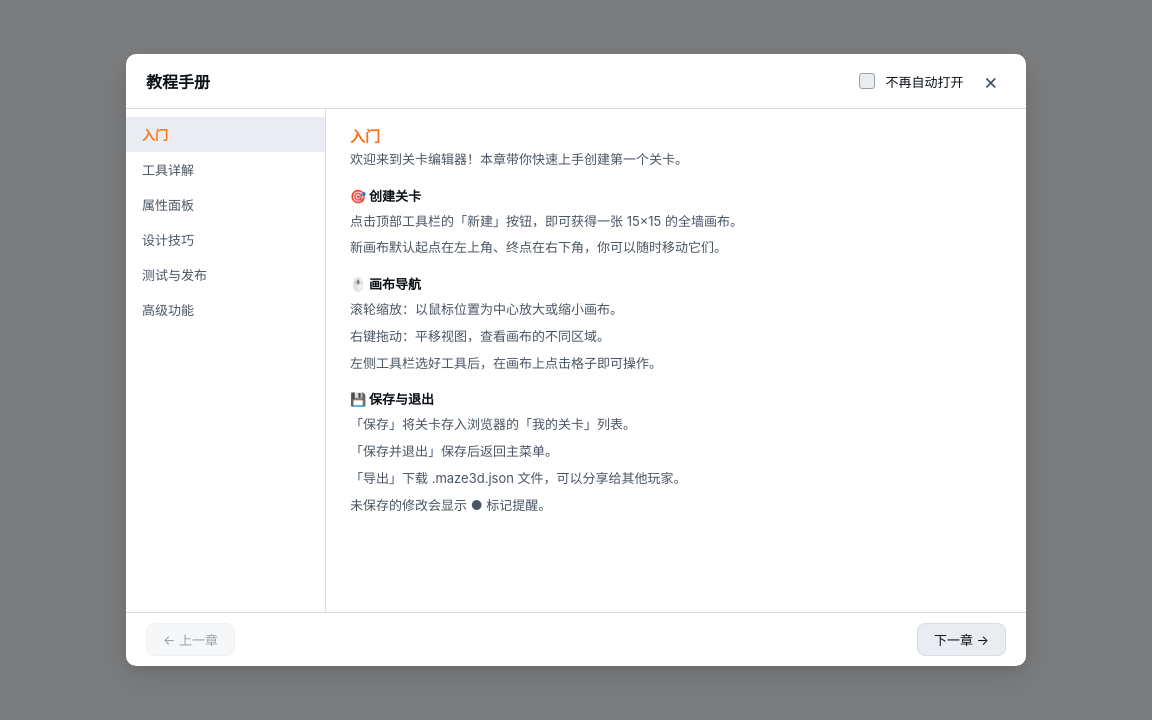
Test: EditorTutorialManual › disables Next on last chapter
Click the button with test id "editor-manual-next": (961, 640) [917,623,1006,656]
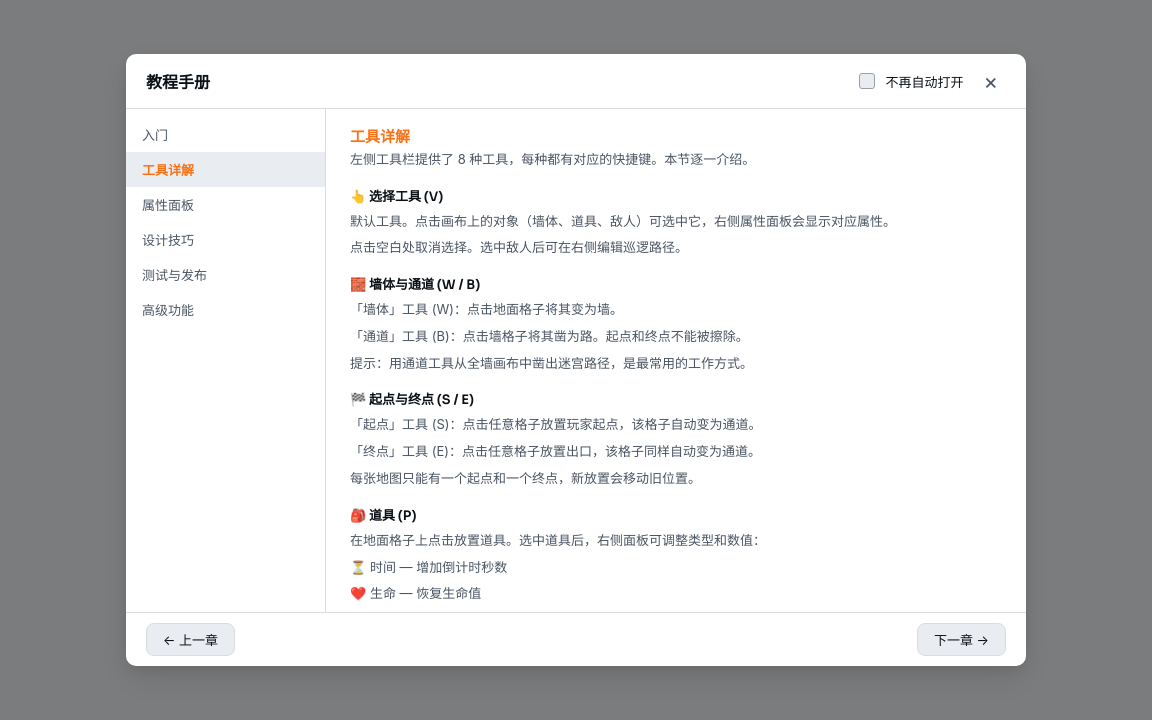
Click the button with test id "editor-manual-next": (961, 640) [917,623,1006,656]
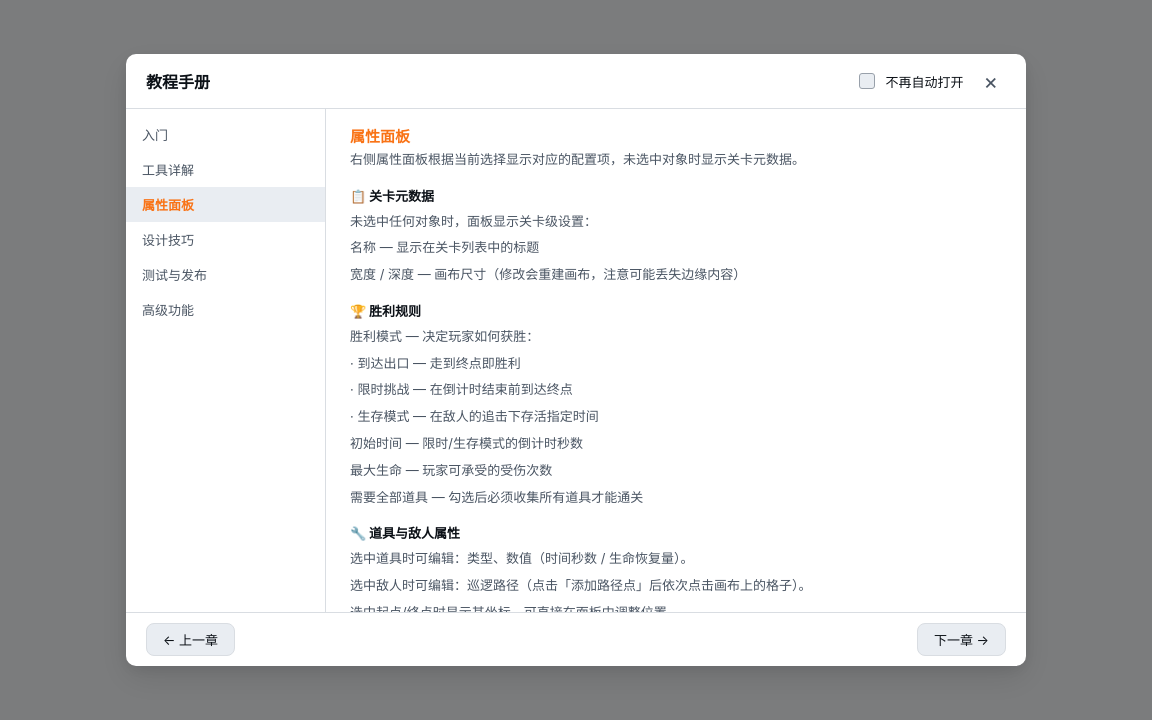
Click the button with test id "editor-manual-next": (961, 640) [917,623,1006,656]
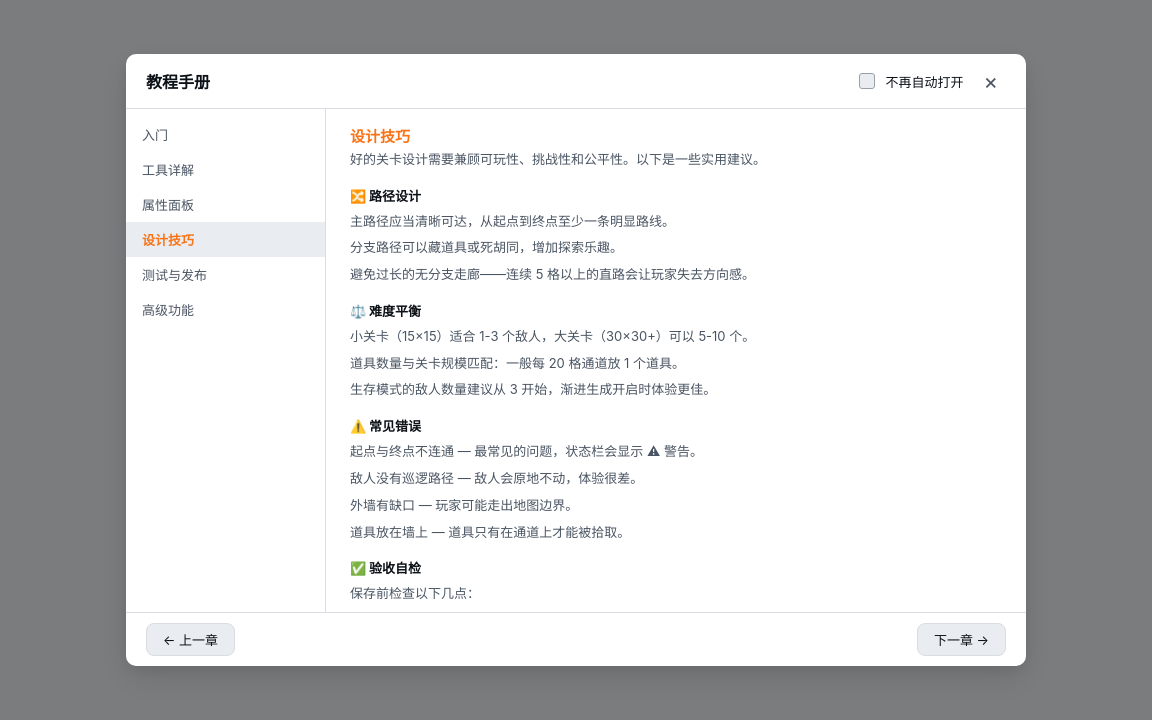
Click the button with test id "editor-manual-next": (961, 640) [917,623,1006,656]
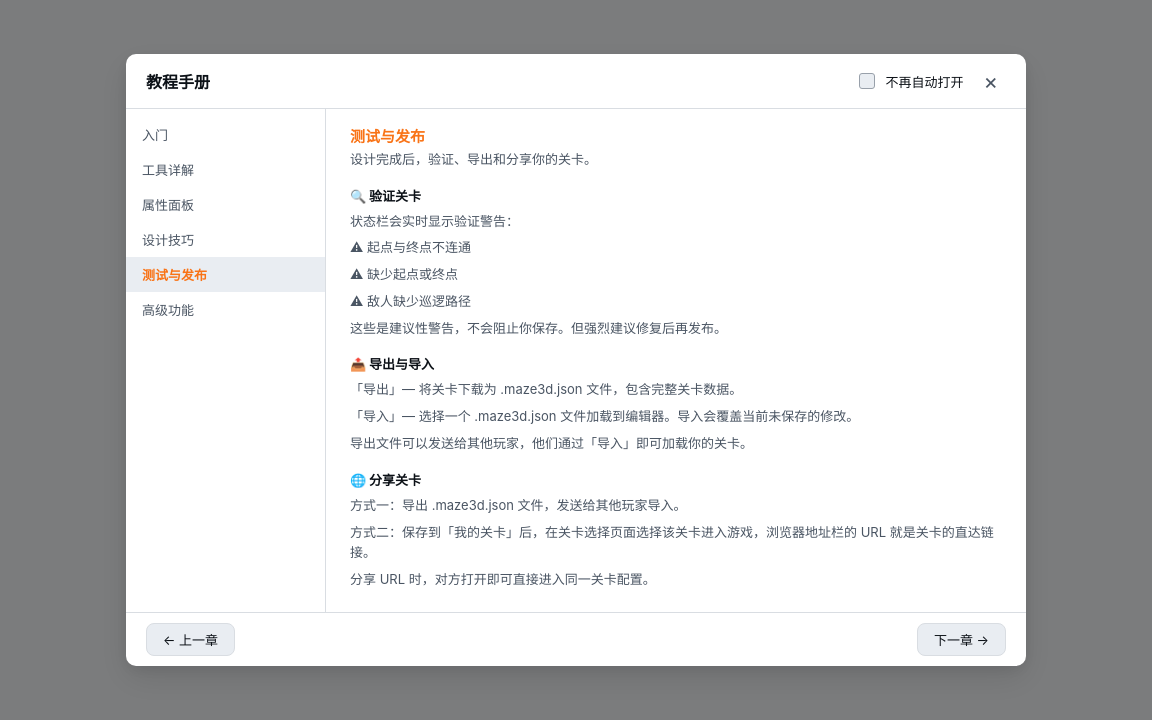
Click the button with test id "editor-manual-next": (961, 640) [917,623,1006,656]
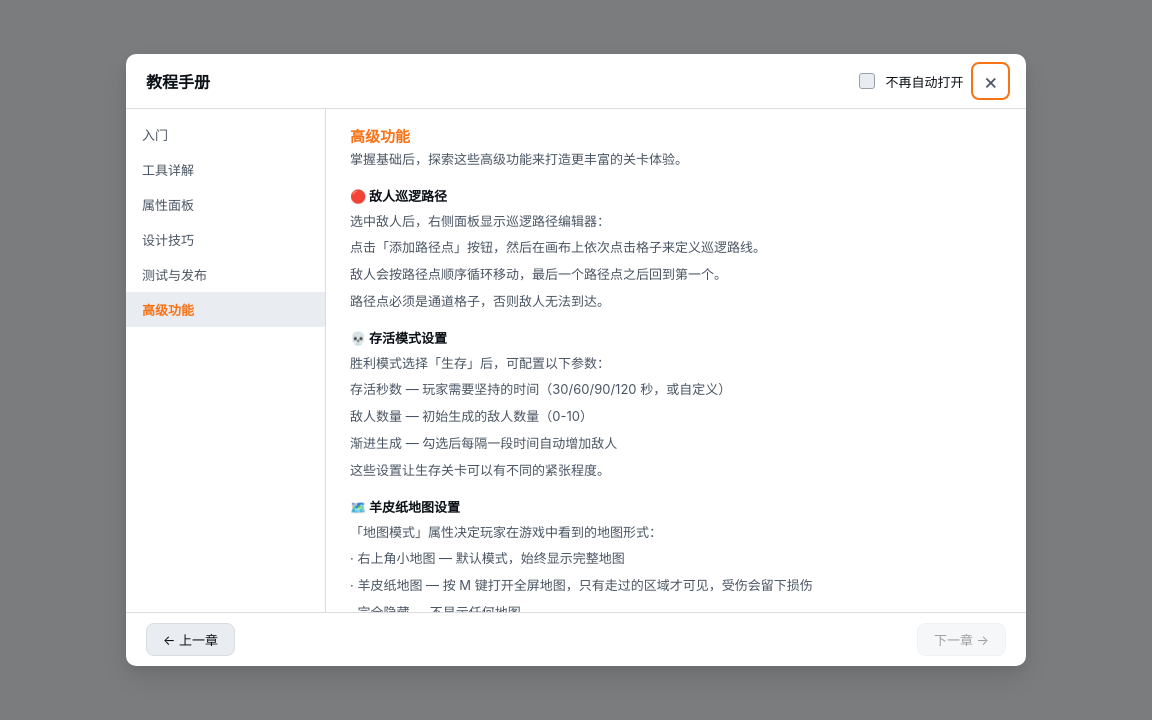
Expected: the button with test id "editor-manual-next" is disabled, [917,623,1006,656]
